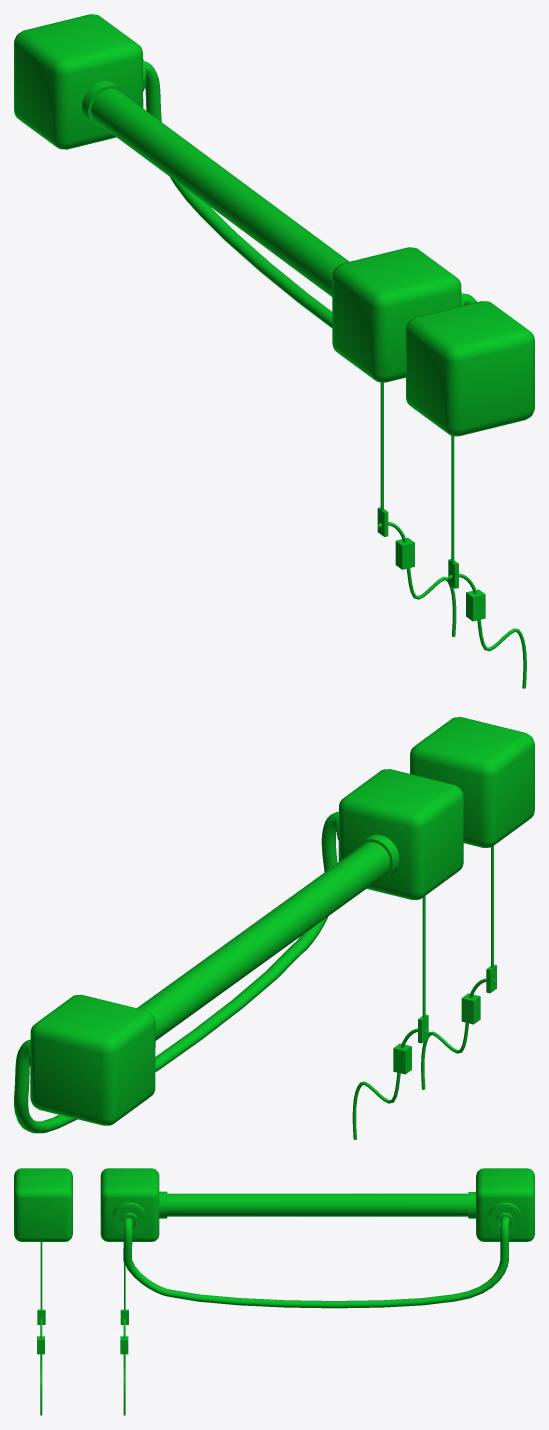
Rendered from PowerSource.FBX.
3 renders of one model, top to bottom at view 1: azimuth 30°, elevation 25°; view 2: azimuth 150°, elevation 25°; view 3: azimuth 270°, elevation 25°, orthographic. The views are drawn at different scales.
Parts seen in each view (by area): view 1: PowerSource, VaccineStorageplug; view 2: PowerSource, VaccineStorageplug; view 3: PowerSource, VaccineStorageplug.
Part boxes in pixels (<box>): PowerSource: <box>14,14,534,588</box>; VaccineStorageplug: <box>378,522,526,688</box>; PowerSource: <box>14,717,534,1133</box>; VaccineStorageplug: <box>352,978,496,1139</box>; PowerSource: <box>14,1168,534,1324</box>; VaccineStorageplug: <box>37,1318,128,1415</box>.
Size of the model in its own units: 75.01 by 202 by 431.
